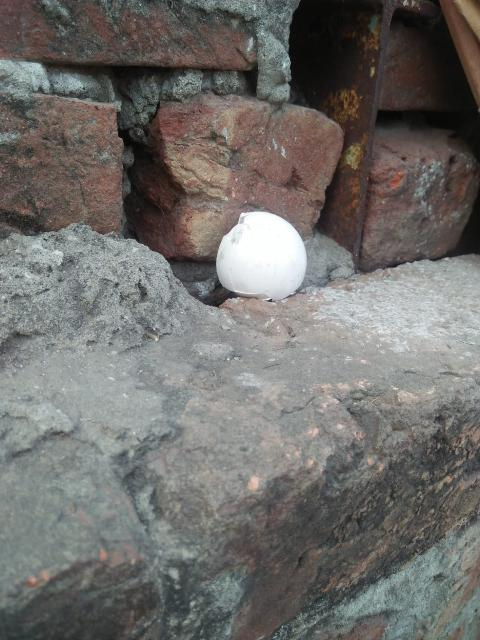Roto: (215, 210, 308, 301)
